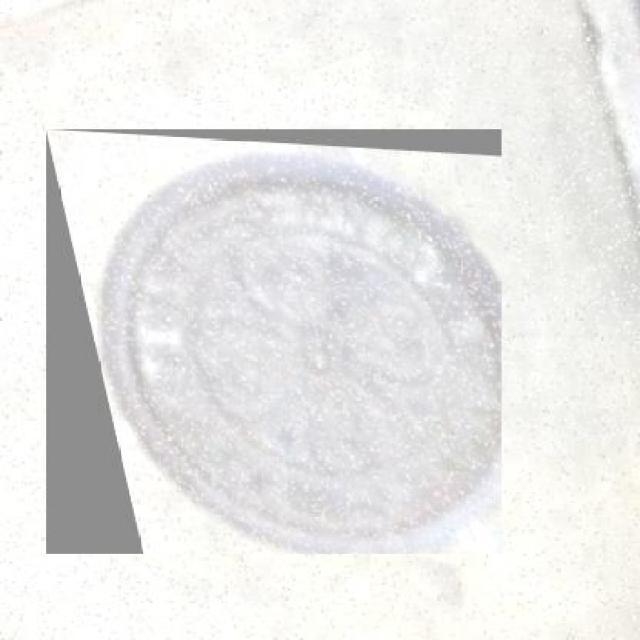Manhole: (46, 129, 502, 554)
